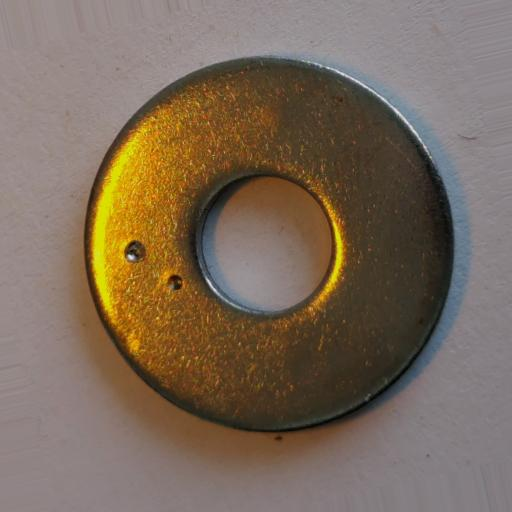circular_cavity: (124, 241, 146, 263), (167, 275, 184, 291)
